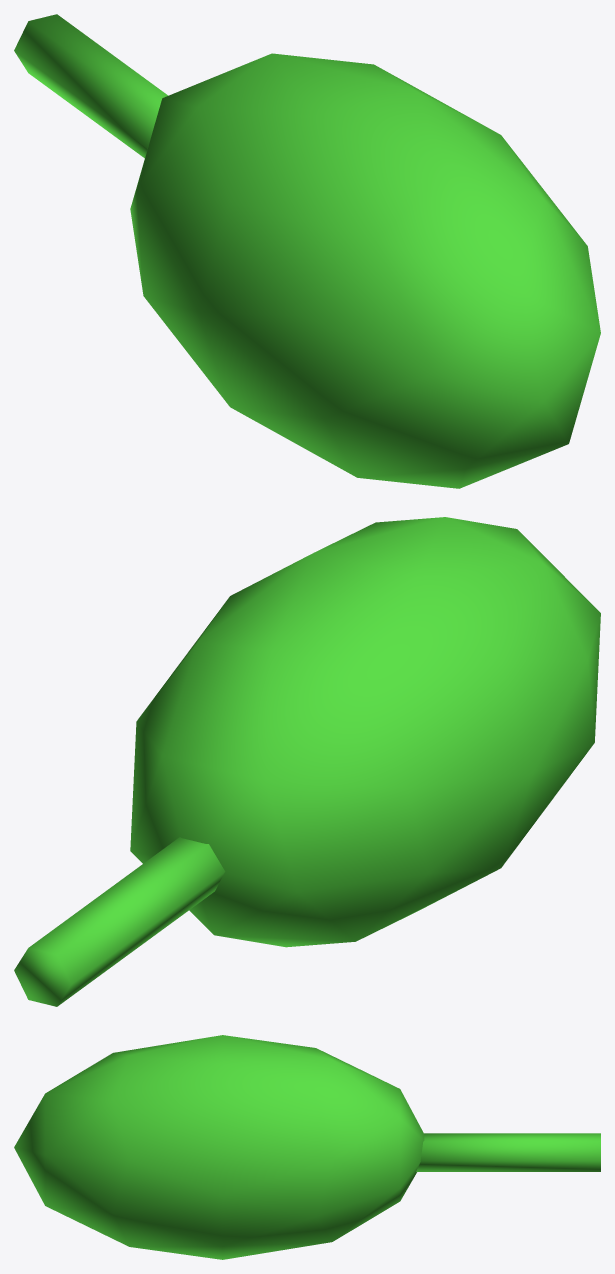
Rendered from tree.fbx.
3 views of the same model, one above another, from view 1: azimuth 30°, elevation 25°; view 2: azimuth 150°, elevation 25°; view 3: azimuth 270°, elevation 25° (orthographic). The views are drawn at different scales.
Visible parts, largest first — view 1: Cylinder.010; view 2: Cylinder.010; view 3: Cylinder.010.
Part boxes in pixels (x1,y1,x2,y2): Cylinder.010: (14, 14, 600, 488); Cylinder.010: (14, 517, 600, 1006); Cylinder.010: (14, 1035, 600, 1259).
Size of the model in its own units: 432 by 167 by 158.
